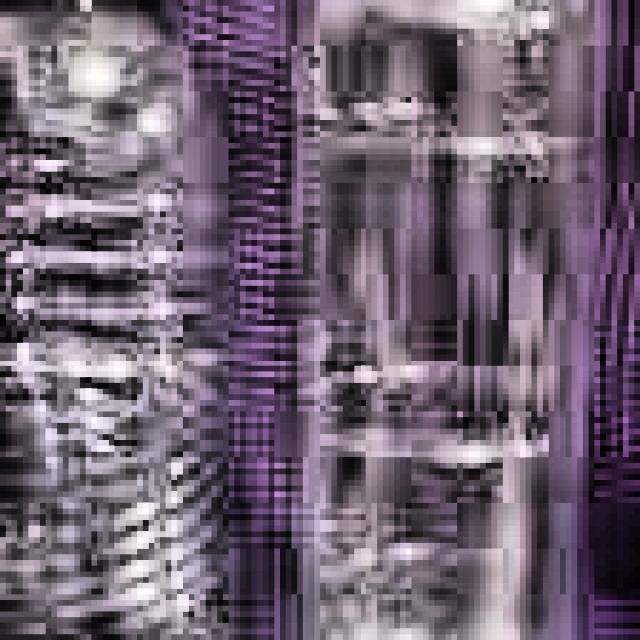plastic: (257, 0, 617, 640), (0, 0, 269, 640)
